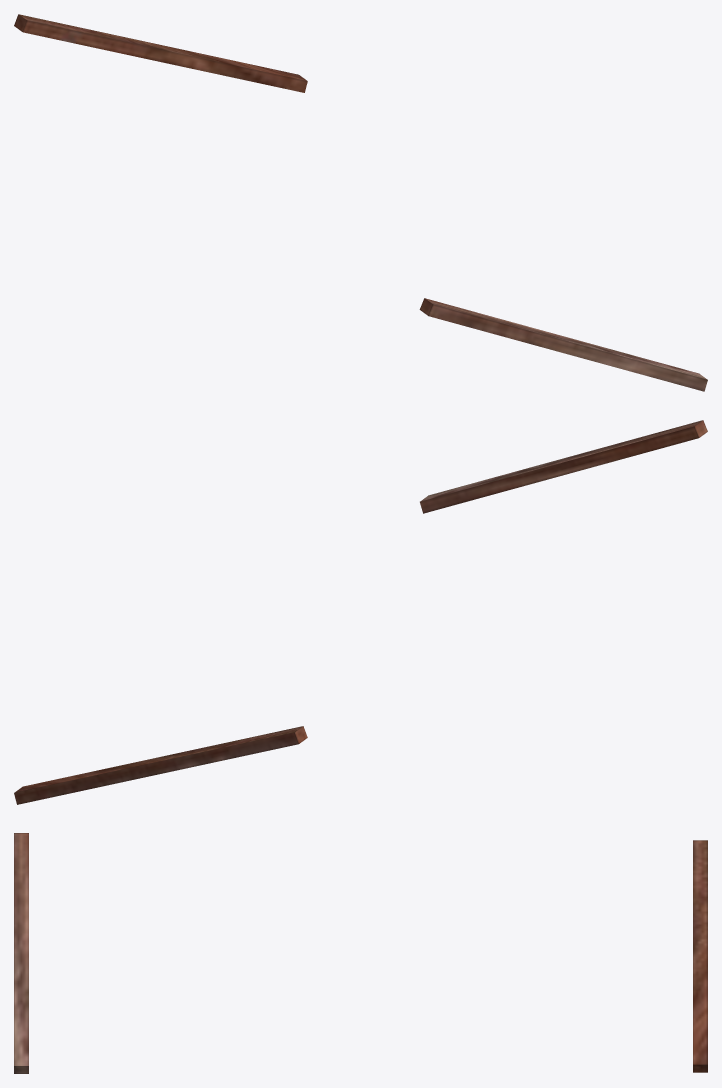
3 views of the same model, one above another, from view 1: azimuth 30°, elevation 25°; view 2: azimuth 150°, elevation 25°; view 3: azimuth 270°, elevation 25° (orthographic). The views are drawn at different scales.
Visible parts, largest first — view 1: Object_56; view 2: Object_56; view 3: Object_56.
Boxes of the visible parts, x1,y1,x2,y2 form: Object_56: (14, 14, 707, 391); Object_56: (14, 420, 707, 804); Object_56: (14, 833, 707, 1073).
Size of the model in its own units: 1.11 by 0.5697 by 2.77.
Materials: 1 (1 with a texture image).
